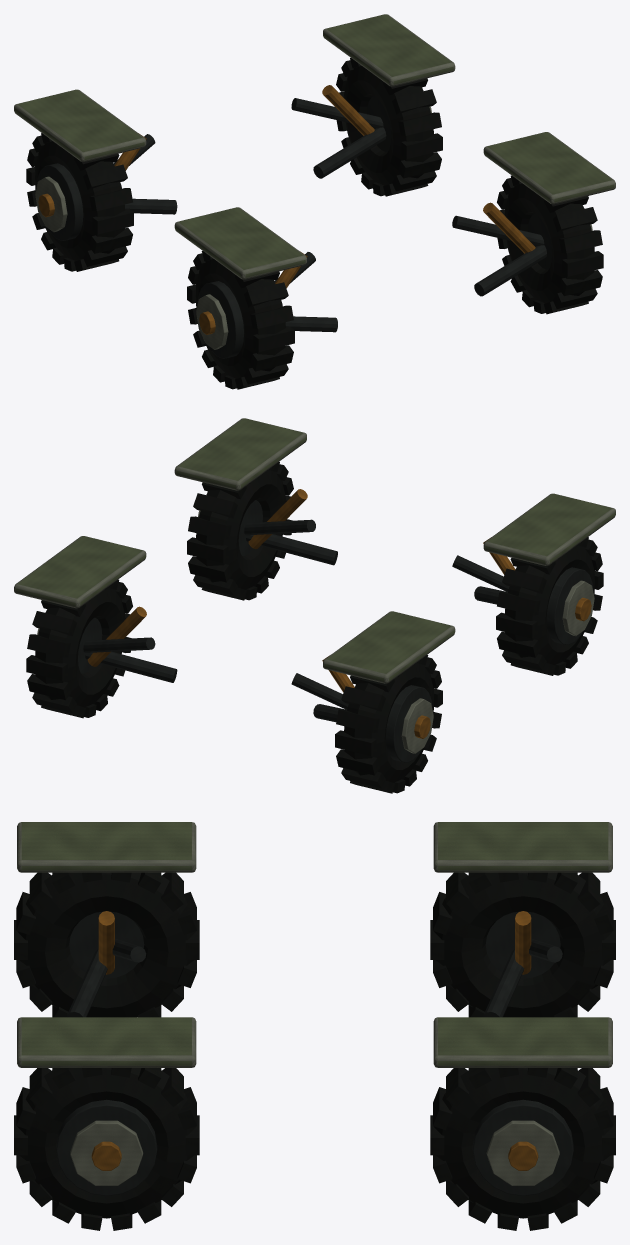
Rendered from jackal-treads.fbx.
3 views of the same model, one above another, from view 1: azimuth 30°, elevation 25°; view 2: azimuth 150°, elevation 25°; view 3: azimuth 270°, elevation 25° (orthographic). The views are drawn at different scales.
Parts seen in each view (by area): view 1: jackal-treads_Rubber, jackal-treads_Armor, jackal-treads_Steel, jackal-treads_Brass, jackal-treads_Edge; view 2: jackal-treads_Rubber, jackal-treads_Armor, jackal-treads_Steel, jackal-treads_Brass, jackal-treads_Edge; view 3: jackal-treads_Rubber, jackal-treads_Armor, jackal-treads_Steel, jackal-treads_Edge, jackal-treads_Brass.
Part boxes in pixels (x1,y1,x2,y2): jackal-treads_Rubber: [26, 58, 603, 389]; jackal-treads_Armor: [14, 14, 615, 279]; jackal-treads_Steel: [36, 96, 551, 358]; jackal-treads_Brass: [38, 85, 535, 334]; jackal-treads_Edge: [35, 106, 592, 349]; jackal-treads_Rubber: [26, 462, 603, 793]; jackal-treads_Armor: [14, 418, 615, 683]; jackal-treads_Steel: [78, 500, 593, 762]; jackal-treads_Brass: [87, 489, 591, 738]; jackal-treads_Edge: [37, 510, 594, 753]; jackal-treads_Rubber: [14, 872, 615, 1230]; jackal-treads_Armor: [17, 822, 612, 1067]; jackal-treads_Steel: [56, 911, 573, 1195]; jackal-treads_Edge: [70, 1120, 559, 1185]; jackal-treads_Brass: [91, 911, 538, 1170].
Bounding box in the file's own units: 452 × 160 × 477.
Materials: 5 (5 with a texture image).
